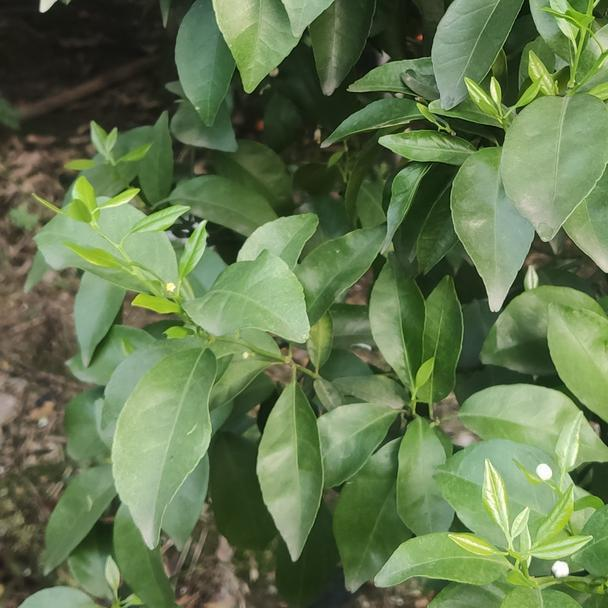shoot: (48, 168, 181, 299), (465, 469, 585, 604)
